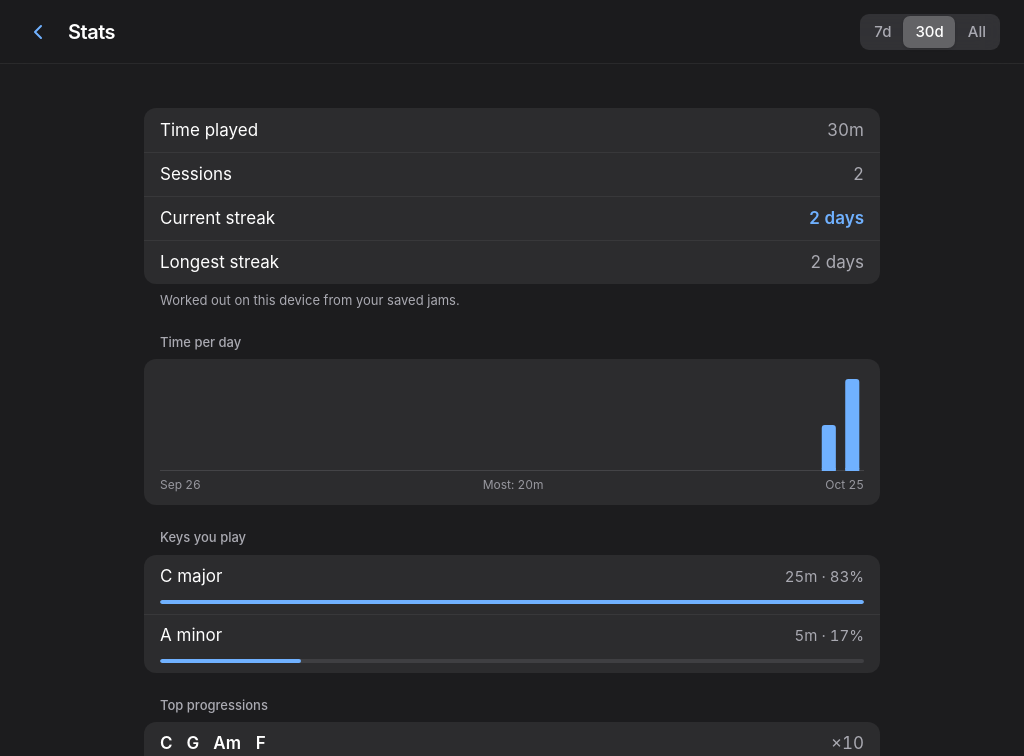
StatsScreen › switches range
What coordinates should you click on to do the following:
click the radio button with aria-label "All time"
I would click on:
 (977, 32)
Its box is x1=956 y1=16 x2=998 y2=48.
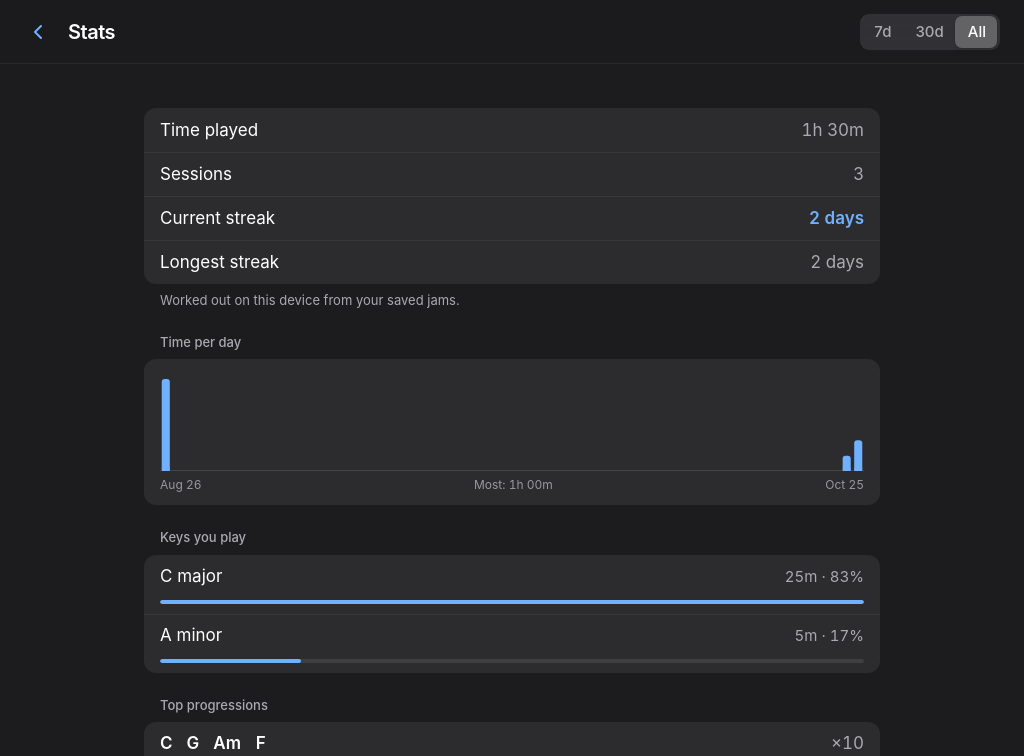
Expected: the text "3" is shown, x1=853 y1=162 x2=864 y2=185
Expected: the text "1h 30m" is shown, x1=801 y1=118 x2=864 y2=141
